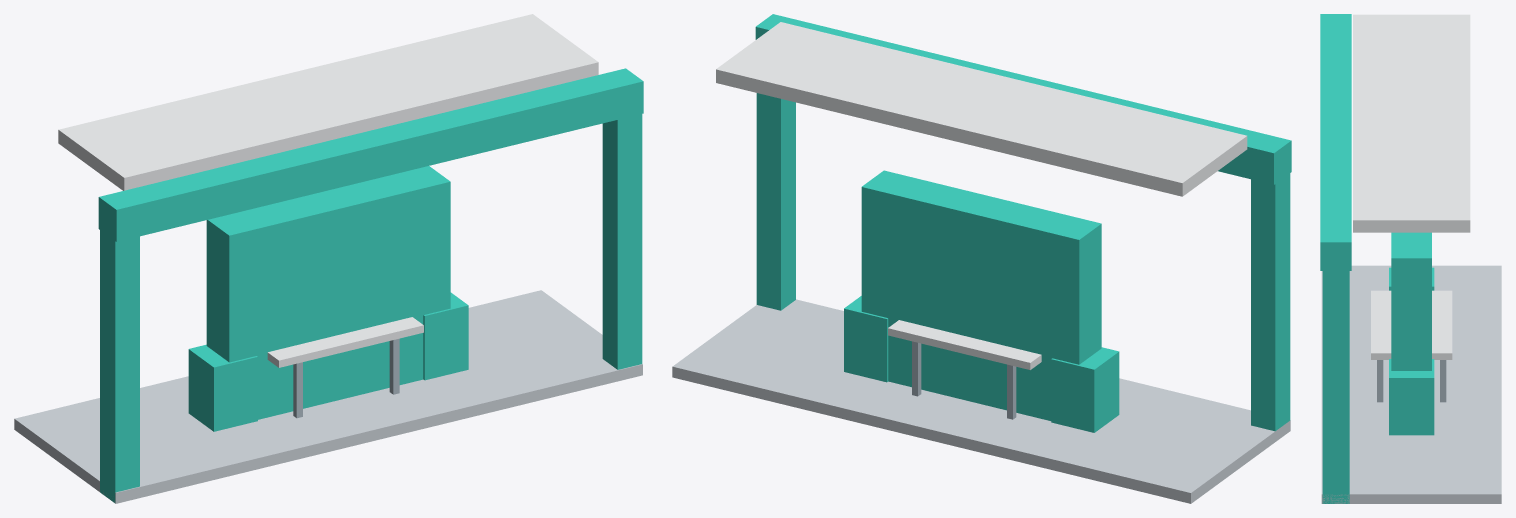
3 renders of one model, left to right at view 1: azimuth 30°, elevation 25°; view 2: azimuth 150°, elevation 25°; view 3: azimuth 270°, elevation 25°, orthographic. The views are drawn at different scales.
Parts seen in each view (by area): view 1: Exhibition Booth Concept; view 2: Exhibition Booth Concept; view 3: Exhibition Booth Concept.
Boxes of the visible parts, x1,y1,x2,y2 form: Exhibition Booth Concept: [14, 14, 643, 503]; Exhibition Booth Concept: [672, 14, 1291, 503]; Exhibition Booth Concept: [1320, 14, 1501, 503].
Size of the model in its own units: 6 by 3.34 by 2.01.
